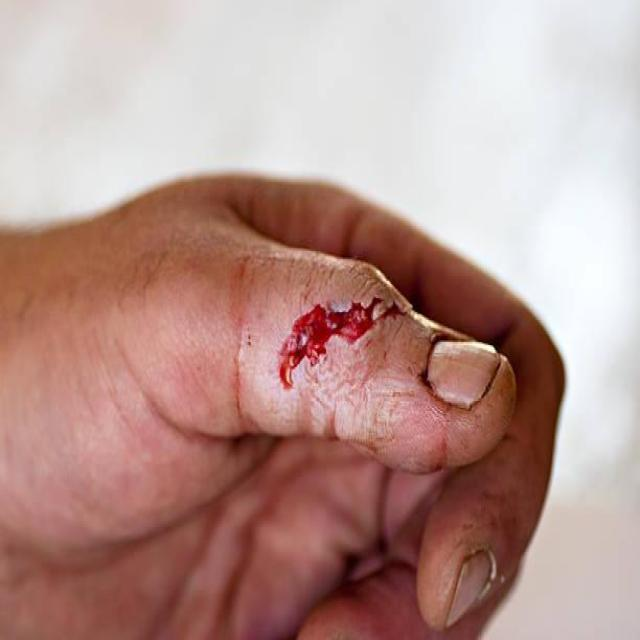flood: (264, 273, 394, 402)
